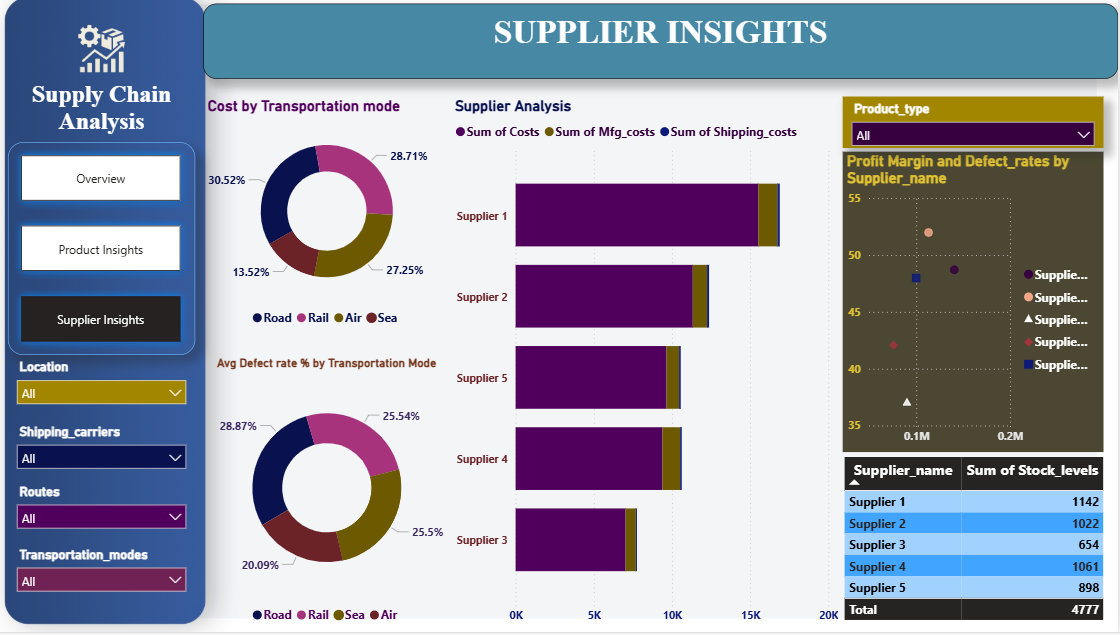

What the dashboard file says about the page in this screenshot:
{"tool":"powerbi","page":{"name":"Supplier Insights","canvas":[1280,720],"ordinal":2},"visuals":[{"type":"donutChart","title":"Cost by Transportation mode","fields":{"Category":["supply_chain_data.Transportation_modes"],"Y":["Key Metrics.Total Costs"]},"box":[253.1,118.5,277.2,267.2],"z":0},{"type":"donutChart","title":"Avg Defect rate % by Transportation Mode","fields":{"Category":["supply_chain_data.Transportation_modes"],"Y":["Key Metrics.Avg defectRate"]},"box":[253.1,409.8,277.2,309.4],"z":1000},{"type":"barChart","title":"Supplier Analysis","fields":{"Category":["supply_chain_data.Supplier_name"],"Y":["Sum(supply_chain_data.Costs)","Sum(supply_chain_data.Mfg_costs)","Sum(supply_chain_data.Shipping_costs)"]},"box":[530.3,118.5,439.9,600.6],"z":2000},{"type":"tableEx","fields":{"Values":["supply_chain_data.Supplier_name","Sum(supply_chain_data.Stock_levels)"]},"box":[967.3,518.3,310.5,201],"z":3000},{"type":"scatterChart","title":"Profit Margin and Defect_rates by Supplier_name","fields":{"X":["Sum(supply_chain_data.Profit Margin)"],"Series":["supply_chain_data.Supplier_name"],"Y":["Sum(supply_chain_data.Defect_rates)"]},"box":[969.5,180.9,292.6,337.3],"z":4000},{"type":"textbox","box":[253.1,14.1,1026.5,84.4],"z":5000},{"type":"pageNavigator","box":[33.5,169.8,210,239],"z":5001},{"type":"textbox","box":[33.5,96.1,210,73.7],"z":5002},{"type":"slicer","fields":{"Values":["supply_chain_data.Product_type"]},"box":[969.5,118.4,292.6,58.1],"z":5003},{"type":"slicer","fields":{"Values":["supply_chain_data.Location"]},"box":[33.5,408.8,210,62.5],"z":5005},{"type":"slicer","fields":{"Values":["supply_chain_data.Shipping_carriers"]},"box":[33.5,480.3,210,67],"z":5006},{"type":"slicer","fields":{"Values":["supply_chain_data.Routes"]},"box":[33.5,547.3,210,73.7],"z":5007},{"type":"slicer","fields":{"Values":["supply_chain_data.Transportation_modes"]},"box":[33.5,618.8,210,80.4],"z":5008},{"type":"image","box":[82.7,0,113.9,118.4],"z":5009}]}

Visuals, with their boxes in screenshot pixels (x1, y1, x2, y2), scaled from the page's 1280x720 canvas onto the 1120x635 screenshot:
"Cost by Transportation mode" donutChart: <region>221, 105, 464, 340</region>
"Avg Defect rate % by Transportation Mode" donutChart: <region>221, 361, 464, 634</region>
"Supplier Analysis" barChart: <region>464, 105, 849, 634</region>
tableEx - supply_chain_data.Supplier_name x Sum(supply_chain_data.Stock_levels): <region>846, 457, 1118, 634</region>
"Profit Margin and Defect_rates by Supplier_name" scatterChart: <region>848, 160, 1104, 457</region>
textbox: <region>221, 12, 1119, 87</region>
pageNavigator: <region>29, 150, 213, 361</region>
textbox: <region>29, 85, 213, 150</region>
slicer - supply_chain_data.Product_type: <region>848, 104, 1104, 156</region>
slicer - supply_chain_data.Location: <region>29, 361, 213, 416</region>
slicer - supply_chain_data.Shipping_carriers: <region>29, 424, 213, 483</region>
slicer - supply_chain_data.Routes: <region>29, 483, 213, 548</region>
slicer - supply_chain_data.Transportation_modes: <region>29, 546, 213, 617</region>
image: <region>72, 0, 172, 104</region>
